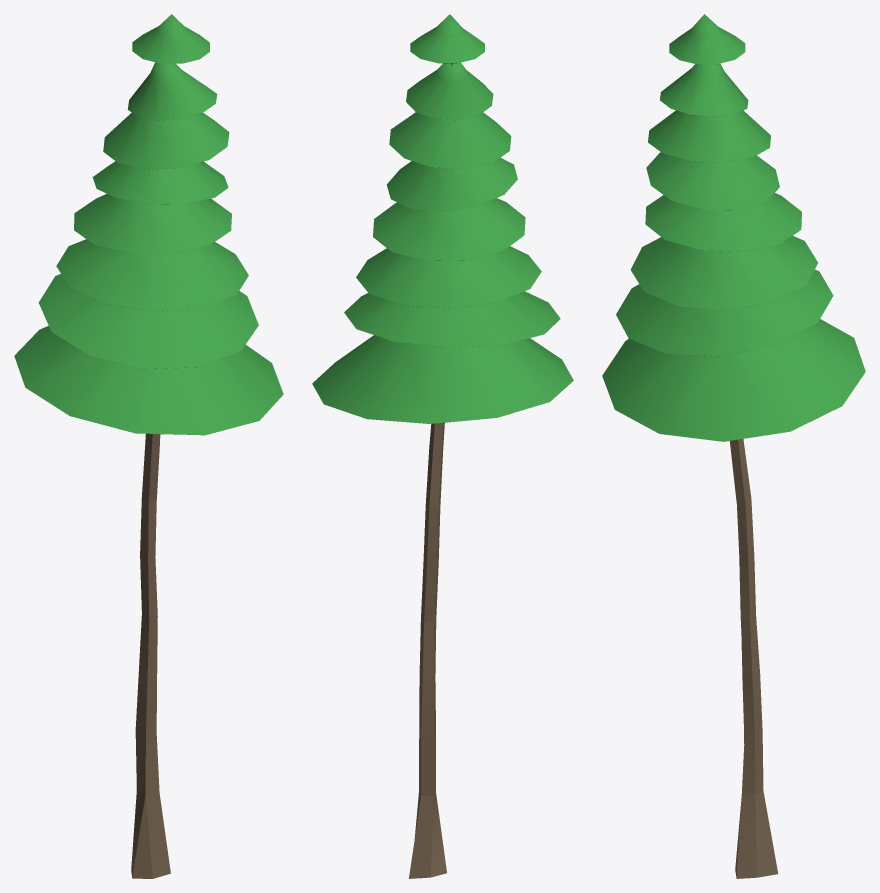
Rendered from pine_i.FBX.
3 views of the same model, side by side, from view 1: azimuth 30°, elevation 25°; view 2: azimuth 150°, elevation 25°; view 3: azimuth 270°, elevation 25° (orthographic). The views are drawn at different scales.
Visible parts, largest first — view 1: pine_i; view 2: pine_i; view 3: pine_i.
Part boxes in pixels (x1,y1,x2,y2): pine_i: (14,14,283,878); pine_i: (312,14,573,878); pine_i: (602,14,865,878).
Bounding box in the file's own units: 3.04 × 10.81 × 3.01.
